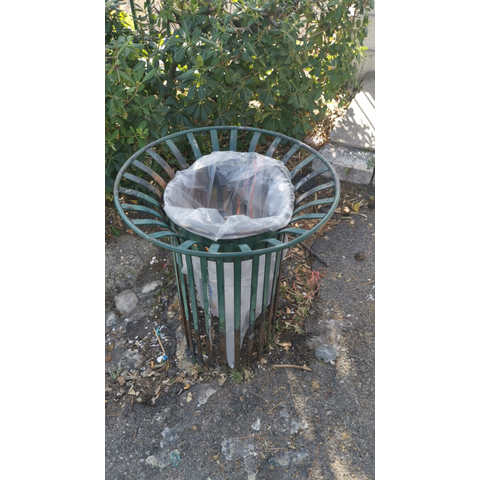poubelle: (112, 116, 345, 358)
